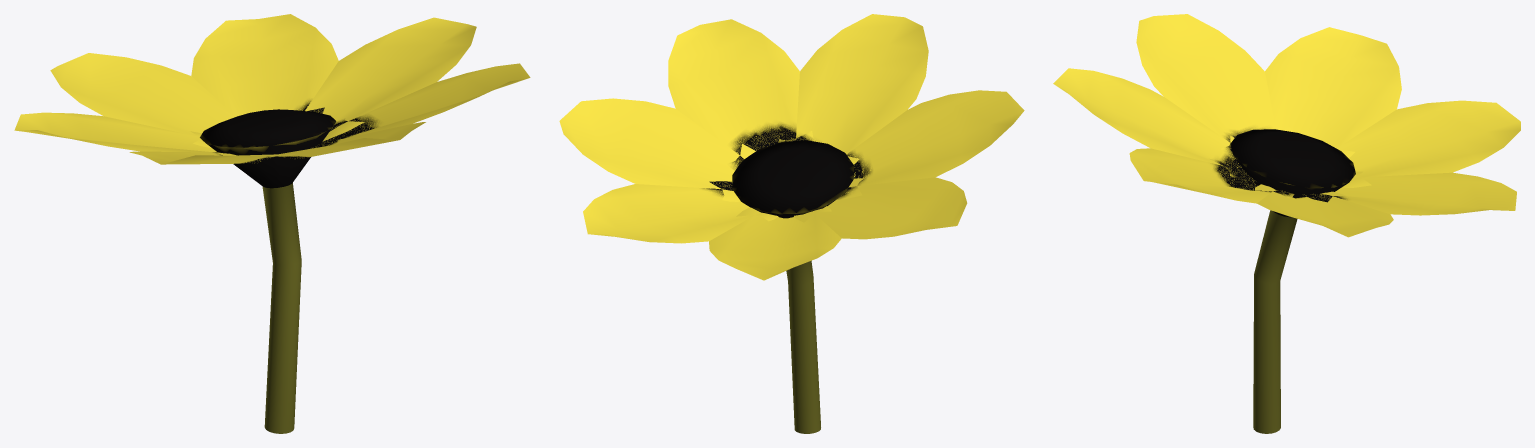
File: Sm_Flowers2L.fbx
3 renders of one model, left to right at view 1: azimuth 30°, elevation 25°; view 2: azimuth 150°, elevation 25°; view 3: azimuth 270°, elevation 25°, orthographic. The views are drawn at different scales.
Parts seen in each view (by area): view 1: Sm_Flowers2L; view 2: Sm_Flowers2L; view 3: Sm_Flowers2L.
Boxes of the visible parts, x1,y1,x2,y2 form: Sm_Flowers2L: (14, 14, 530, 433); Sm_Flowers2L: (559, 14, 1024, 433); Sm_Flowers2L: (1053, 14, 1520, 433).
Bounding box in the file's own units: 28.29 × 22.59 × 27.36.
